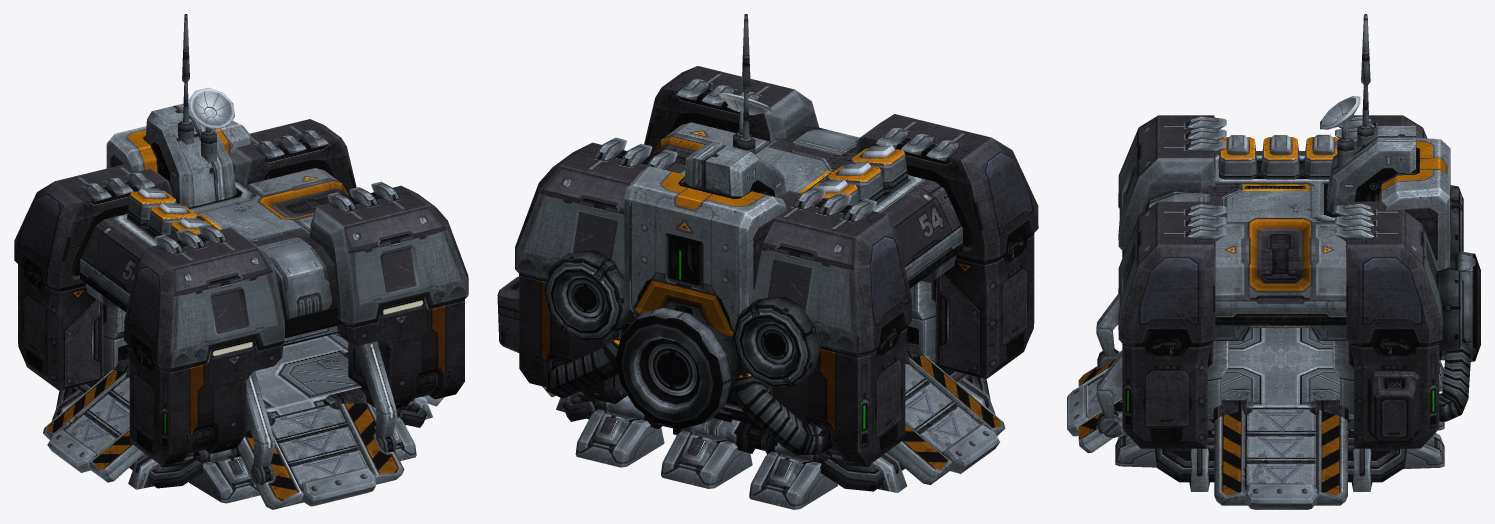
The model's file is CatFactory.FBX.
3 renders of one model, left to right at view 1: azimuth 30°, elevation 25°; view 2: azimuth 150°, elevation 25°; view 3: azimuth 270°, elevation 25°, orthographic. The views are drawn at different scales.
Visible parts, largest first — view 1: Factory; view 2: Factory; view 3: Factory.
Boxes of the visible parts, x1,y1,x2,y2 form: Factory: [14, 14, 468, 509]; Factory: [497, 14, 1038, 509]; Factory: [1067, 14, 1480, 509].
Bounding box in the file's own units: 3.91 × 3.97 × 3.72.
1 material, 1 textured.
